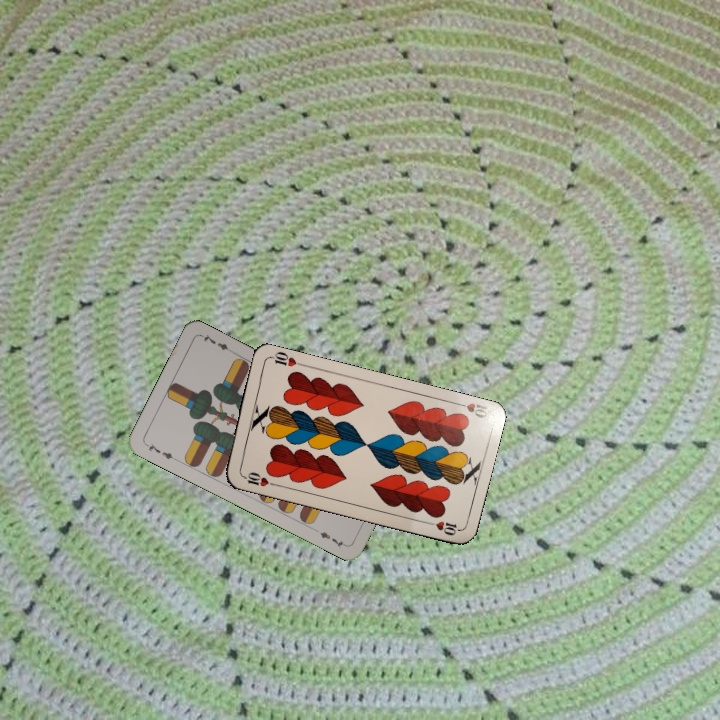E7: (142, 440, 179, 464)
H10: (451, 398, 492, 421), (238, 468, 278, 489)
